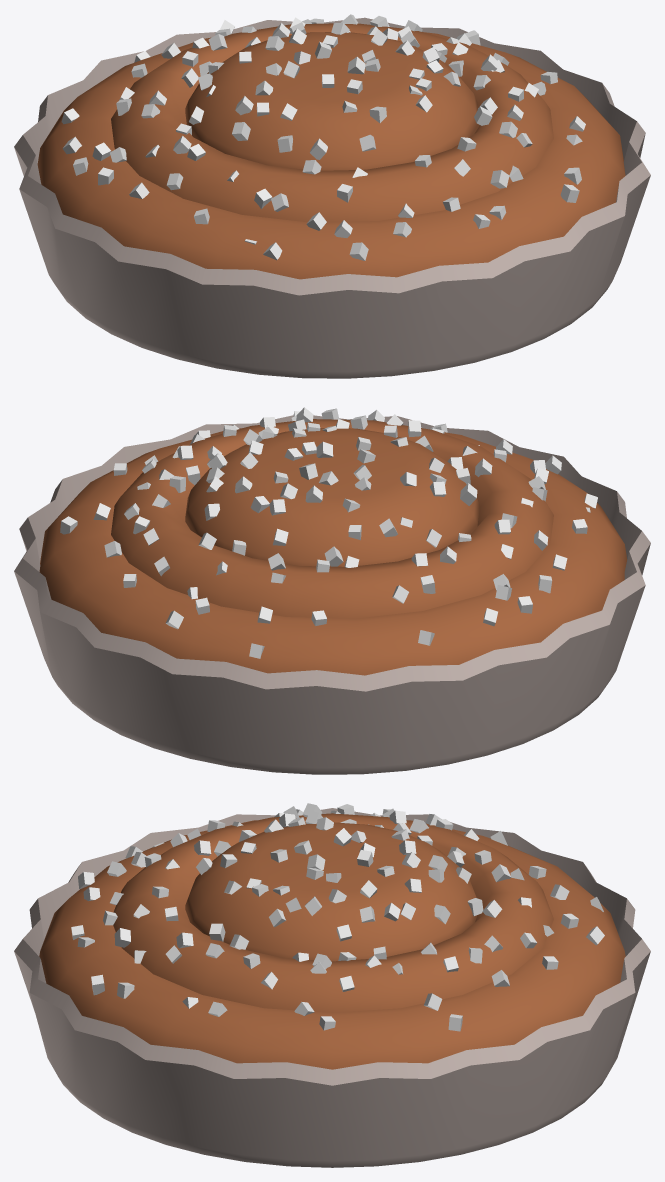
Rendered from Kanelbulle.fbx.
The picture shows the model from 3 angles, top to bottom: view 1: azimuth 30°, elevation 25°; view 2: azimuth 150°, elevation 25°; view 3: azimuth 270°, elevation 25°; orthographic projection.
Visible parts, largest first — view 1: Kanelbulle, Pappersform, Strösocker; view 2: Kanelbulle, Pappersform, Strösocker; view 3: Kanelbulle, Pappersform, Strösocker.
Part boxes in pixels (x1,y1,x2,y2): Kanelbulle: [37, 23, 625, 279]; Pappersform: [14, 17, 650, 378]; Strösocker: [61, 14, 585, 260]; Kanelbulle: [39, 419, 627, 675]; Pappersform: [14, 415, 650, 774]; Strösocker: [60, 407, 597, 658]; Kanelbulle: [39, 813, 625, 1069]; Pappersform: [14, 808, 650, 1167]; Strösocker: [71, 803, 604, 1031].
Bounding box in the file's own units: 5.16 × 1.81 × 5.16.
